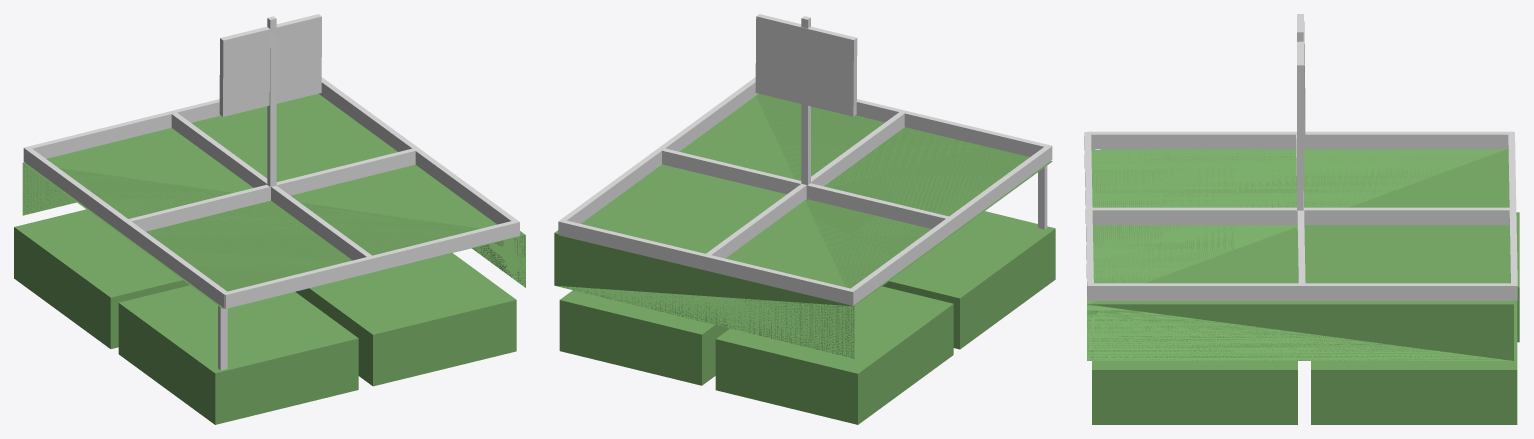
The model's file is estructura frutero.glb.
3 views of the same model, side by side, from view 1: azimuth 30°, elevation 25°; view 2: azimuth 150°, elevation 25°; view 3: azimuth 270°, elevation 25° (orthographic). The views are drawn at different scales.
Parts seen in each view (by area): view 1: Cubo.001; view 2: Cubo.001; view 3: Cubo.001.
Boxes of the visible parts, bbox=[...] form: Cubo.001: bbox=[14, 14, 525, 424]; Cubo.001: bbox=[554, 14, 1055, 424]; Cubo.001: bbox=[1084, 14, 1519, 424].
Size of the model in its own units: 5.64 by 5.19 by 6.44.
